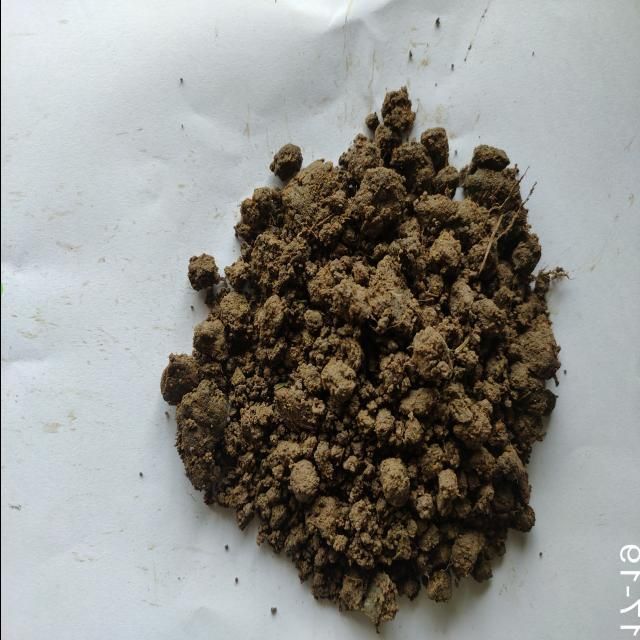soil: (257, 217, 483, 527)
